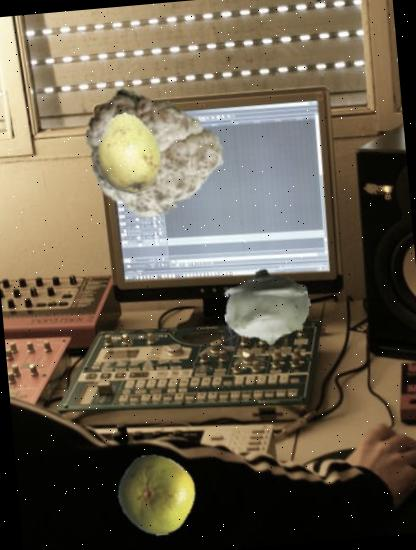Cauliflower: (72, 78, 226, 234)
Kohlrabi: (220, 260, 314, 354)
Pear: (84, 109, 174, 199)
Pomelo: (112, 451, 202, 540)
